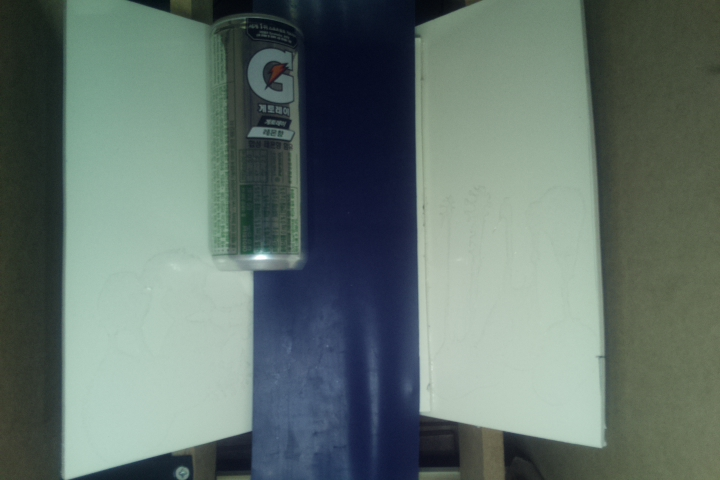can: (209, 13, 308, 272)
